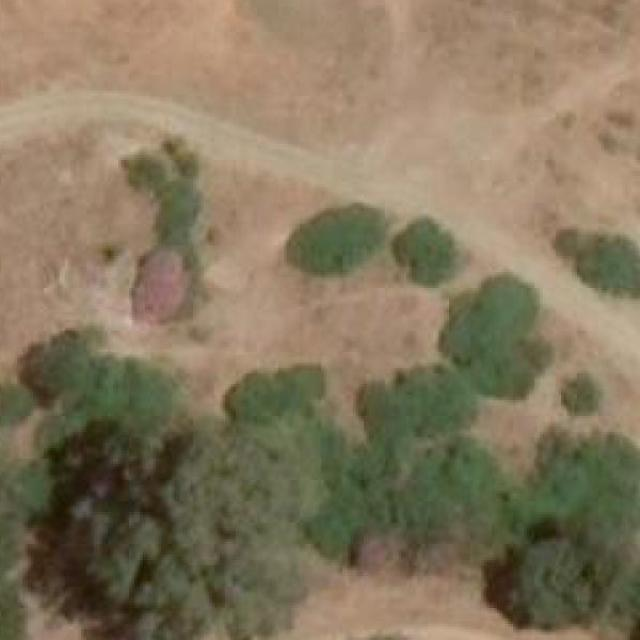Tree: (28, 424, 303, 640), (530, 418, 640, 543), (444, 272, 543, 395), (354, 353, 475, 450), (490, 534, 607, 628), (281, 200, 385, 278), (222, 362, 316, 424), (558, 230, 640, 294), (396, 218, 458, 282), (0, 581, 25, 640), (559, 376, 596, 414)
